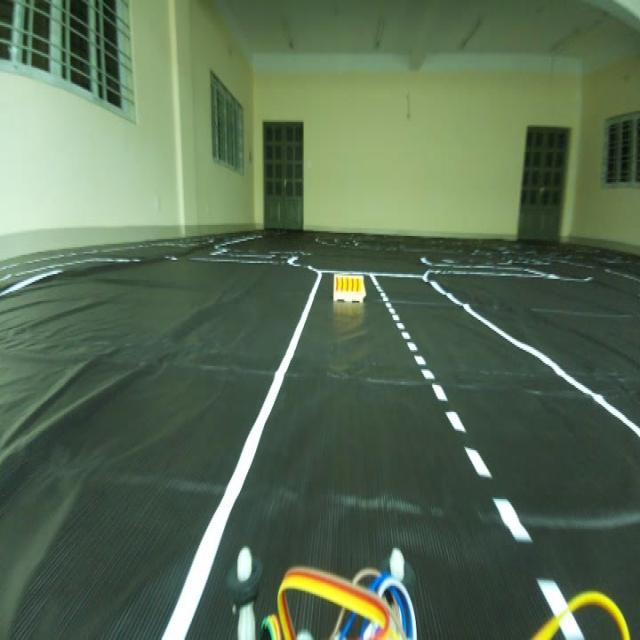roadblock: (331, 264, 366, 302)
